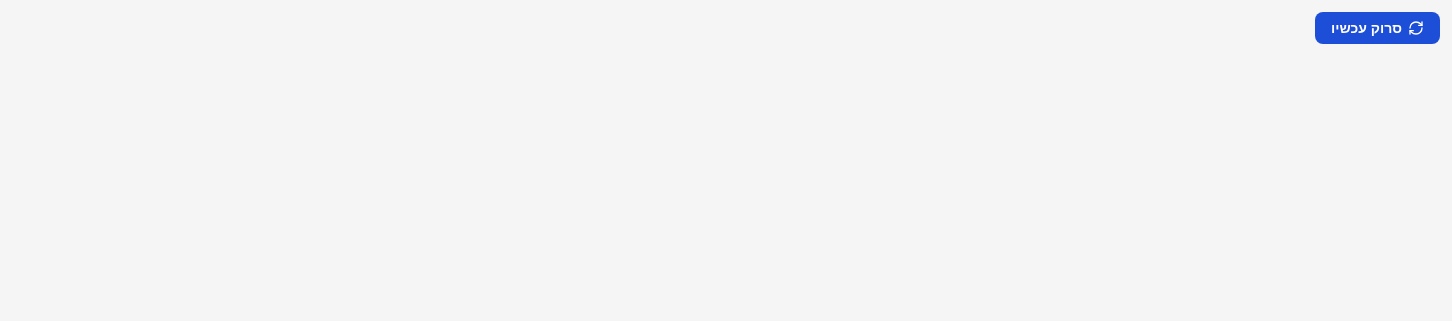
it: ScrapeButton › surfaces the real server error detail
This screenshot has width=1452, height=321.
Click the button "סרוק עכשיו" at (1378, 28), box [1315,12,1440,44]
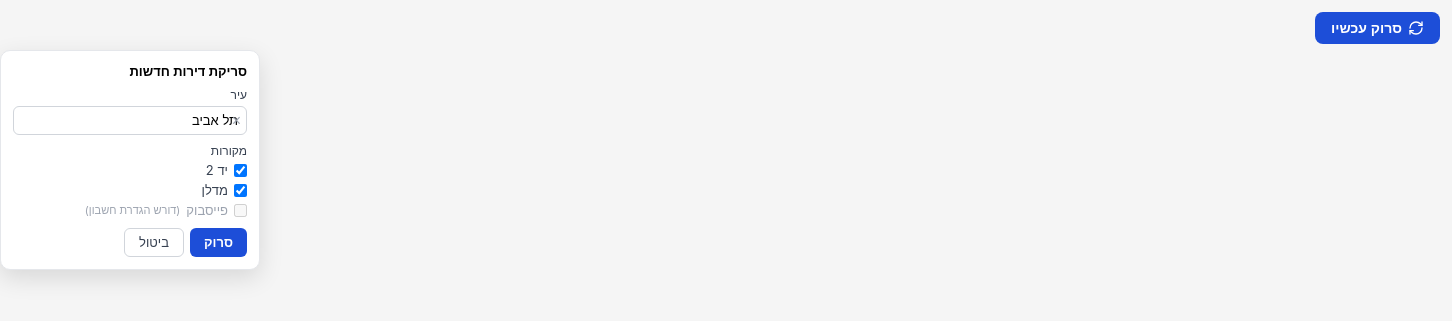
Click the button "סרוק" at (218, 242), box [190,228,247,257]
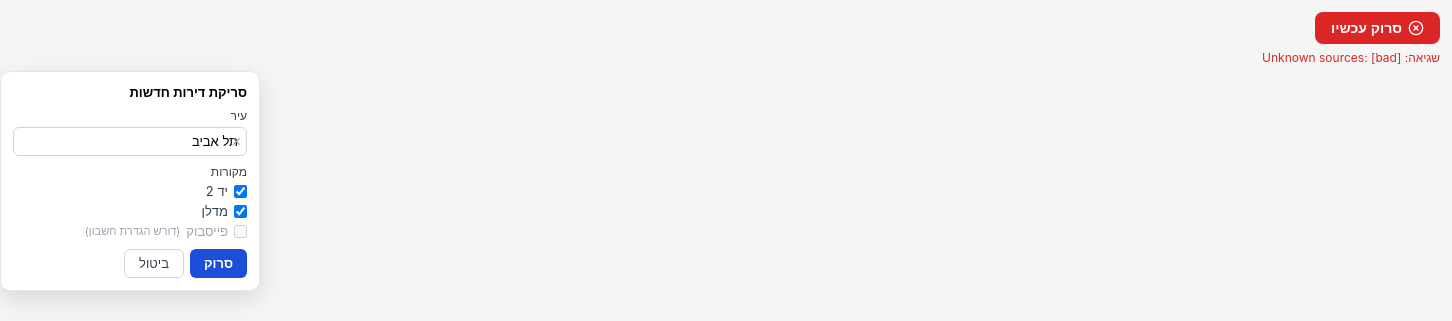
Result: the text "שגיאה: Unknown sources: [bad]" is shown at [1262,50,1440,65]
